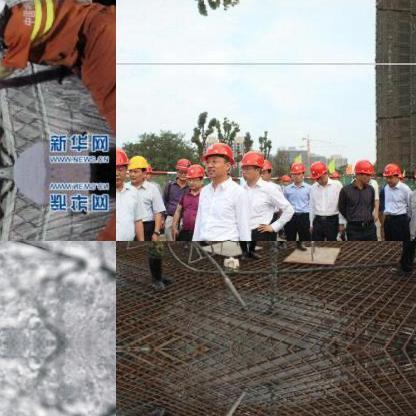Helmet: (202, 138, 232, 176), (0, 0, 16, 45), (240, 149, 264, 179), (125, 152, 147, 182), (351, 158, 373, 184), (187, 162, 208, 188), (308, 156, 328, 182), (258, 155, 274, 183), (116, 146, 128, 183), (171, 155, 187, 181), (382, 160, 400, 182), (288, 159, 304, 183)
